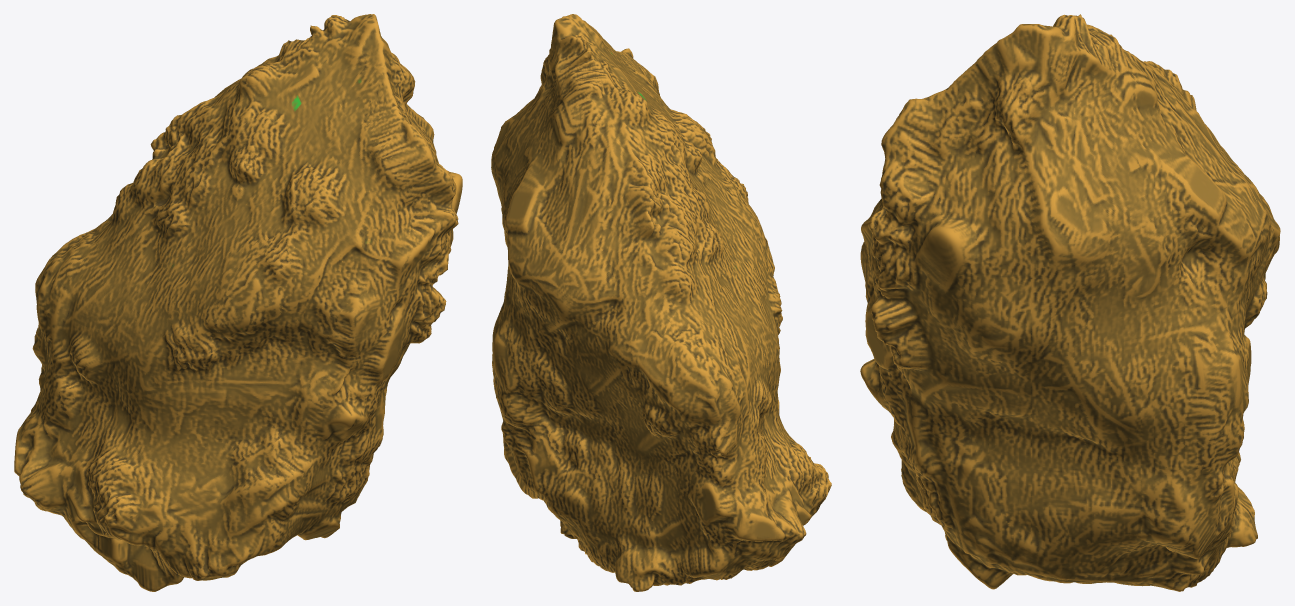
The model's file is gold_nugget.glb.
The picture shows the model from 3 angles, left to right: view 1: azimuth 30°, elevation 25°; view 2: azimuth 150°, elevation 25°; view 3: azimuth 270°, elevation 25°; orthographic projection. The views are drawn at different scales.
Visible parts, largest first — view 1: Volume9; view 2: Volume9; view 3: Volume9.
Boxes of the visible parts, x1=… form: Volume9: x1=14, y1=14, x2=462, y2=591; Volume9: x1=491, y1=14, x2=831, y2=591; Volume9: x1=860, y1=14, x2=1280, y2=591.
Bounding box in the file's own units: 11.12 × 14.99 × 9.01.
1 material, 1 textured.
